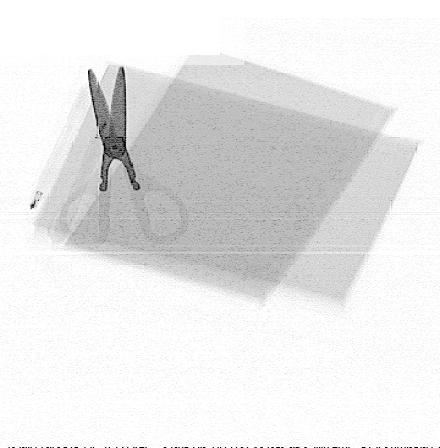Scissors: (57, 63, 190, 252)
